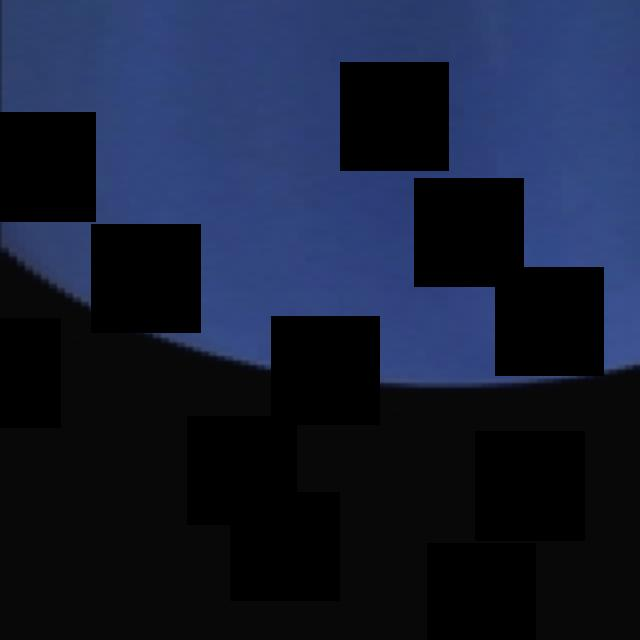Neptune: (0, 0, 640, 388)
